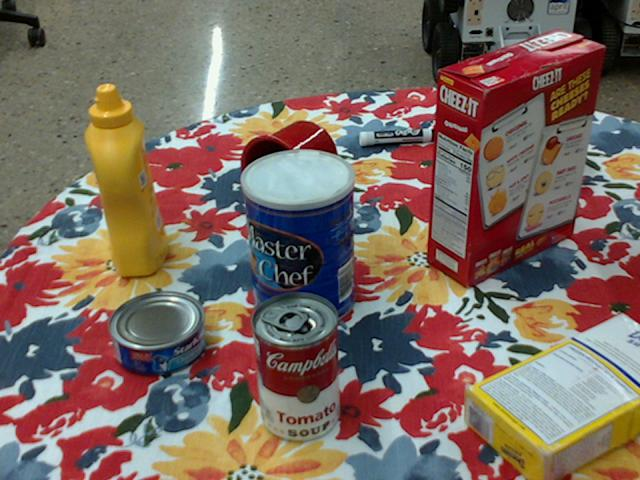cracker_box: (430, 31, 605, 287)
gelatin_box: (513, 133, 584, 190)
large_marker: (359, 125, 452, 144)
master_chef_can: (240, 149, 353, 330)
mug: (239, 120, 336, 214)
mustard_bottle: (86, 86, 168, 277)
sugar_box: (464, 312, 639, 479)
tomato_soup_can: (250, 291, 338, 441)
tuna_fish_can: (107, 290, 205, 374)
